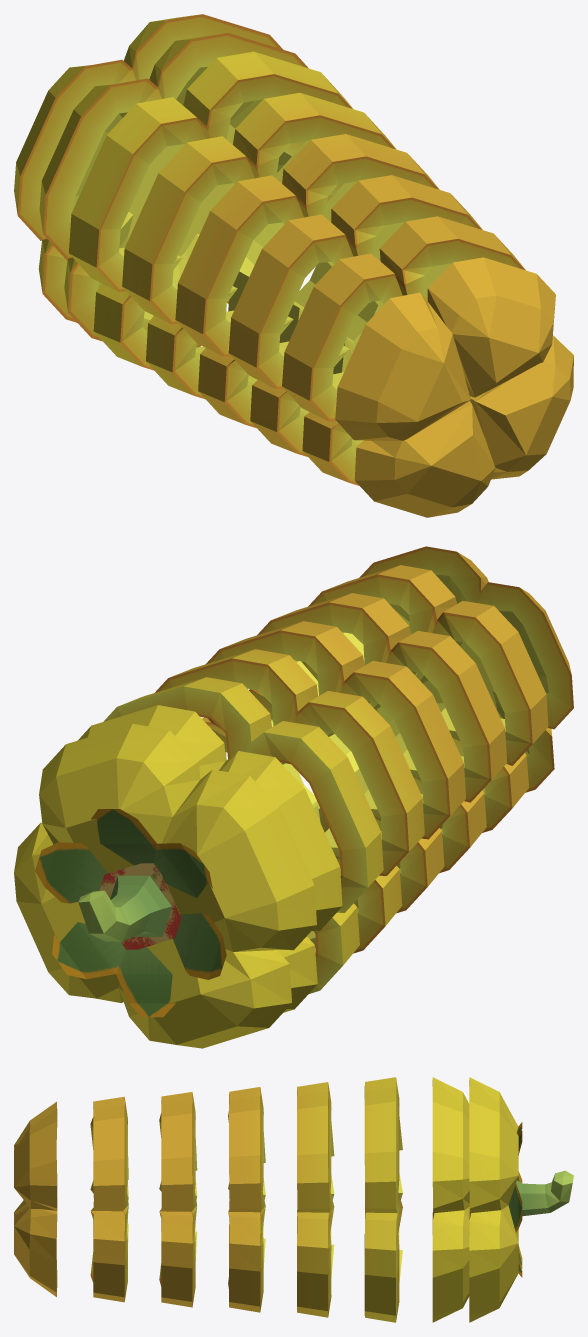
The model's file is Tomator 2.fbx.
3 views of the same model, one above another, from view 1: azimuth 30°, elevation 25°; view 2: azimuth 150°, elevation 25°; view 3: azimuth 270°, elevation 25° (orthographic). The views are drawn at different scales.
Parts seen in each view (by area): view 1: BellPepperY_Horiz_Slice07_M_FV01Pack_0, BellPepperY_Horiz_Slice02_M_FV01Pack_0, BellPepperY_Horiz_Slice03_M_FV01Pack_0, BellPepperY_Horiz_Slice04_M_FV01Pack_0, BellPepperY_Horiz_Slice05_M_FV01Pack_0, BellPepperY_Horiz_Slice01_M_FV01Pack_0, BellPepperY_Horiz_Slice06_M_FV01Pack_0, BellPepperY_Horiz_Slice01B_M_FV01Pack_0; view 2: BellPepperY_Horiz_Slice01B_M_FV01Pack_0, BellPepperY_Horiz_Slice02_M_FV01Pack_0, BellPepperY_Horiz_Slice03_M_FV01Pack_0, BellPepperY_Horiz_Slice04_M_FV01Pack_0, BellPepperY_Horiz_Slice05_M_FV01Pack_0, BellPepperY_Horiz_Slice06_M_FV01Pack_0, BellPepperY_Horiz_Slice01_M_FV01Pack_0, BellPepperY_Horiz_Slice07_M_FV01Pack_0; view 3: BellPepperY_Horiz_Slice01B_M_FV01Pack_0, BellPepperY_Horiz_Slice02_M_FV01Pack_0, BellPepperY_Horiz_Slice01_M_FV01Pack_0, BellPepperY_Horiz_Slice03_M_FV01Pack_0, BellPepperY_Horiz_Slice04_M_FV01Pack_0, BellPepperY_Horiz_Slice05_M_FV01Pack_0, BellPepperY_Horiz_Slice06_M_FV01Pack_0, BellPepperY_Horiz_Slice07_M_FV01Pack_0.
Part boxes in pixels (x1,y1,x2,y2): BellPepperY_Horiz_Slice07_M_FV01Pack_0: [335, 257, 573, 517]; BellPepperY_Horiz_Slice02_M_FV01Pack_0: [69, 51, 352, 370]; BellPepperY_Horiz_Slice03_M_FV01Pack_0: [122, 92, 396, 398]; BellPepperY_Horiz_Slice04_M_FV01Pack_0: [175, 134, 439, 428]; BellPepperY_Horiz_Slice05_M_FV01Pack_0: [228, 175, 482, 456]; BellPepperY_Horiz_Slice01_M_FV01Pack_0: [39, 33, 333, 347]; BellPepperY_Horiz_Slice06_M_FV01Pack_0: [282, 216, 525, 485]; BellPepperY_Horiz_Slice01B_M_FV01Pack_0: [14, 14, 282, 322]; BellPepperY_Horiz_Slice01B_M_FV01Pack_0: [14, 723, 316, 1048]; BellPepperY_Horiz_Slice02_M_FV01Pack_0: [103, 677, 383, 993]; BellPepperY_Horiz_Slice03_M_FV01Pack_0: [155, 649, 424, 953]; BellPepperY_Horiz_Slice04_M_FV01Pack_0: [202, 621, 465, 913]; BellPepperY_Horiz_Slice05_M_FV01Pack_0: [249, 593, 507, 873]; BellPepperY_Horiz_Slice06_M_FV01Pack_0: [301, 565, 548, 832]; BellPepperY_Horiz_Slice01_M_FV01Pack_0: [78, 705, 342, 1012]; BellPepperY_Horiz_Slice07_M_FV01Pack_0: [359, 546, 573, 792]; BellPepperY_Horiz_Slice01B_M_FV01Pack_0: [469, 1077, 573, 1322]; BellPepperY_Horiz_Slice02_M_FV01Pack_0: [364, 1077, 402, 1322]; BellPepperY_Horiz_Slice01_M_FV01Pack_0: [432, 1077, 469, 1322]; BellPepperY_Horiz_Slice03_M_FV01Pack_0: [297, 1082, 334, 1317]; BellPepperY_Horiz_Slice04_M_FV01Pack_0: [228, 1087, 265, 1312]; BellPepperY_Horiz_Slice05_M_FV01Pack_0: [159, 1092, 197, 1307]; BellPepperY_Horiz_Slice06_M_FV01Pack_0: [90, 1096, 128, 1302]; BellPepperY_Horiz_Slice07_M_FV01Pack_0: [14, 1101, 57, 1296].
Size of the model in its own units: 36.58 by 36.59 by 82.47.
